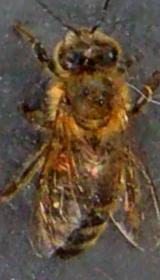varroa_mite: (50, 144, 74, 178)
